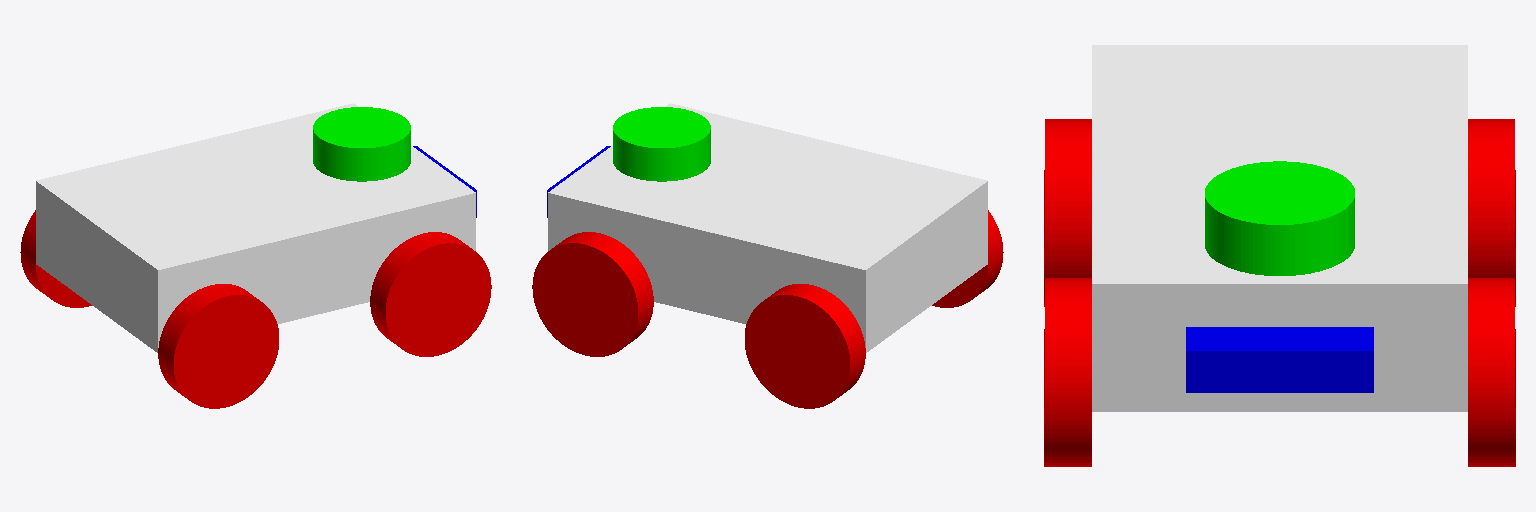
URDF robot description (wrv3):
<?xml version="1.0" ?>
<!-- =================================================================================== -->
<!-- |    This document was autogenerated by xacro from wrv3.xacro                     | -->
<!-- |    EDITING THIS FILE BY HAND IS NOT RECOMMENDED                                 | -->
<!-- =================================================================================== -->
<robot name="wrv3">
  <material name="pet">
    <color rgba="0.700 0.700 0.700 1.000"/>
  </material>
  <material name="green">
    <color rgba="0 1 0 1"/>
  </material>
  <material name="red">
    <color rgba="1 0 0 1"/>
  </material>
  <material name="blue">
    <color rgba="0 0 1 1"/>
  </material>
  <material name="white">
    <color rgba="1 1 1 1"/>
  </material>
  <link name="world"/>
  <joint name="base_joint" type="fixed">
    <origin rpy="0 0 0" xyz="0 0 0.0"/>
    <parent link="world"/>
    <child link="base_link"/>
    <axis xyz="0 0 1"/>
  </joint>
  <link name="base_link">
    <inertial>
      <origin rpy="0 0 0" xyz="0 0 0.0875"/>
      <mass value="6.935"/>
      <inertia ixx="0.026" ixy="0" ixz="0" iyy="0.055" iyz="0" izz="0.075"/>
    </inertial>
    <visual>
      <origin rpy="0 0 0" xyz="0 0 0.0875"/>
      <geometry>
        <mesh filename="package://robot_launcher_cpp/meshes/base_link.stl" scale="0.01 0.01 0.01"/>
      </geometry>
      <material name="white"/>
    </visual>
    <collision>
      <origin rpy="0 0 0" xyz="0 0 0.0875"/>
      <geometry>
        <mesh filename="package://robot_launcher_cpp/meshes/base_link.stl" scale="0.01 0.01 0.01"/>
      </geometry>
    </collision>
  </link>
  <joint name="wheell_joint" type="continuous">
    <origin rpy="1.571 0 0" xyz="-0.1 0.1125 0.05"/>
    <parent link="base_link"/>
    <child link="wheell_link"/>
    <axis xyz="0 0 1"/>
  </joint>
  <link name="wheell_link">
    <inertial>
      <origin rpy="0 0 0" xyz="0 0 0"/>
      <mass value="0.303"/>
      <inertia ixx="2.05e-04" ixy="0" ixz="0" iyy="2.05e-04" iyz="0" izz="7.58e-04"/>
    </inertial>
    <visual>
      <origin rpy="0 0 0" xyz="0 0 0"/>
      <geometry>
        <mesh filename="package://robot_launcher_cpp/meshes/wheel.stl" scale="0.01 0.01 0.01"/>
      </geometry>
      <material name="red"/>
    </visual>
    <collision>
      <origin rpy="0 0 0" xyz="0 0 0"/>
      <geometry>
        <mesh filename="package://robot_launcher_cpp/meshes/wheel.stl" scale="0.01 0.01 0.01"/>
      </geometry>
    </collision>
  </link>
  <joint name="wheelr_joint" type="continuous">
    <origin rpy="-1.571 0 0" xyz="-0.1 -0.1125 0.05"/>
    <parent link="base_link"/>
    <child link="wheelr_link"/>
    <axis xyz="0 0 1"/>
  </joint>
  <link name="wheelr_link">
    <inertial>
      <origin rpy="0 0 0" xyz="0 0 0"/>
      <mass value="0.303"/>
      <inertia ixx="2.05e-04" ixy="0" ixz="0" iyy="2.05e-04" iyz="0" izz="7.58e-04"/>
    </inertial>
    <visual>
      <origin rpy="0 0 0" xyz="0 0 0"/>
      <geometry>
        <mesh filename="package://robot_launcher_cpp/meshes/wheel.stl" scale="0.01 0.01 0.01"/>
      </geometry>
      <material name="red"/>
    </visual>
    <collision>
      <origin rpy="0 0 0" xyz="0 0 0"/>
      <geometry>
        <mesh filename="package://robot_launcher_cpp/meshes/wheel.stl" scale="0.01 0.01 0.01"/>
      </geometry>
    </collision>
  </link>
  <joint name="wheeldl_joint" type="continuous">
    <origin rpy="1.571 0 0" xyz="0.1 0.1125 0.05"/>
    <parent link="base_link"/>
    <child link="wheeldl_link"/>
    <axis xyz="0 0 1"/>
  </joint>
  <link name="wheeldl_link">
    <inertial>
      <origin rpy="0 0 0" xyz="0 0 0"/>
      <mass value="0.303"/>
      <inertia ixx="2.05e-04" ixy="0" ixz="0" iyy="2.05e-04" iyz="0" izz="7.58e-04"/>
    </inertial>
    <visual>
      <origin rpy="0 0 0" xyz="0 0 0"/>
      <geometry>
        <mesh filename="package://robot_launcher_cpp/meshes/wheel.stl" scale="0.01 0.01 0.01"/>
      </geometry>
      <material name="red"/>
    </visual>
    <collision>
      <origin rpy="0 0 0" xyz="0 0 0"/>
      <geometry>
        <mesh filename="package://robot_launcher_cpp/meshes/wheel.stl" scale="0.01 0.01 0.01"/>
      </geometry>
    </collision>
  </link>
  <joint name="wheeldr_joint" type="continuous">
    <origin rpy="-1.571 0 0" xyz="0.1 -0.1125 0.05"/>
    <parent link="base_link"/>
    <child link="wheeldr_link"/>
    <axis xyz="0 0 1"/>
  </joint>
  <link name="wheeldr_link">
    <inertial>
      <origin rpy="0 0 0" xyz="0 0 0"/>
      <mass value="0.303"/>
      <inertia ixx="2.05e-04" ixy="0" ixz="0" iyy="2.05e-04" iyz="0" izz="7.58e-04"/>
    </inertial>
    <visual>
      <origin rpy="0 0 0" xyz="0 0 0"/>
      <geometry>
        <mesh filename="package://robot_launcher_cpp/meshes/wheel.stl" scale="0.01 0.01 0.01"/>
      </geometry>
      <material name="red"/>
    </visual>
    <collision>
      <origin rpy="0 0 0" xyz="0 0 0"/>
      <geometry>
        <mesh filename="package://robot_launcher_cpp/meshes/wheel.stl" scale="0.01 0.01 0.01"/>
      </geometry>
    </collision>
  </link>
  <joint name="camera_joint" type="fixed">
    <origin rpy="0 0 0" xyz="0.165 0 0.0875"/>
    <parent link="base_link"/>
    <child link="camera_link"/>
  </joint>
  <link name="camera_link">
    <inertial>
      <origin rpy="0 0 0" xyz="0 0 0"/>
      <mass value="0.116"/>
      <inertia ixx="1.47e-05" ixy="0" ixz="0" iyy="1.03e-04" iyz="0" izz="1.05e-04"/>
    </inertial>
    <visual>
      <origin rpy="0 0 0" xyz="0 0 0"/>
      <geometry>
        <mesh filename="package://robot_launcher_cpp/meshes/camera.stl" scale="0.01 0.01 0.01"/>
      </geometry>
      <material name="blue"/>
    </visual>
    <collision>
      <origin rpy="0 0 0" xyz="0 0 0"/>
      <geometry>
        <mesh filename="package://robot_launcher_cpp/meshes/camera.stl" scale="0.01 0.01 0.01"/>
      </geometry>
    </collision>
  </link>
  <joint name="camera_optical_joint" type="fixed">
    <origin rpy="0 1.57 0" xyz="0.015 0 0"/>
    <parent link="camera_link"/>
    <child link="camera_color_link"/>
  </joint>
  <link name="camera_color_link"/>
  <joint name="lidar_joint" type="fixed">
    <origin rpy="0 0 0" xyz="0.1 0 0.14"/>
    <parent link="base_link"/>
    <child link="base_scan"/>
  </joint>
  <link name="base_scan">
    <inertial>
      <origin rpy="0 0 0" xyz="0 0 0"/>
      <mass value="0.232"/>
      <inertia ixx="1.1e-04" ixy="0" ixz="0" iyy="1.1e-04" iyz="0" izz="3.09e-05"/>
    </inertial>
    <visual>
      <origin rpy="0 0 0" xyz="0 0 0"/>
      <geometry>
        <mesh filename="package://robot_launcher_cpp/meshes/lidar.stl" scale="0.01 0.01 0.01"/>
      </geometry>
      <material name="green"/>
    </visual>
    <collision>
      <origin rpy="0 0 0" xyz="0 0 0"/>
      <geometry>
        <mesh filename="package://robot_launcher_cpp/meshes/lidar.stl" scale="0.01 0.01 0.01"/>
      </geometry>
    </collision>
  </link>
  <joint name="imu_joint" type="fixed">
    <origin rpy="0 0 0" xyz="0 0 0.0875"/>
    <parent link="base_link"/>
    <child link="imu_link"/>
  </joint>
  <link name="imu_link">
</link>
  <gazebo reference="base_link">
    <material>Gazebo/White</material>
  </gazebo>
  <gazebo reference="wheell_link">
    <material>Gazebo/Red</material>
  </gazebo>
  <gazebo reference="wheelr_link">
    <material>Gazebo/Red</material>
  </gazebo>
  <gazebo reference="wheeldl_link">
    <material>Gazebo/Red</material>
  </gazebo>
  <gazebo reference="wheeldr_link">
    <material>Gazebo/Red</material>
  </gazebo>
  <gazebo reference="camera_link">
    <material>Gazebo/Blue</material>
  </gazebo>
  <gazebo reference="base_scan">
    <material>Gazebo/Green</material>
  </gazebo>
  <gazebo reference="camera_color_link">
    <sensor name="color_camera" type="camera">
      <always_on>true</always_on>
      <visualize>true</visualize>
      <update_rate>30</update_rate>
      <camera name="camera">
        <horizontal_fov>1.02974</horizontal_fov>
        <image>
          <width>640</width>
          <height>480</height>
          <format>R8G8B8</format>
        </image>
        <clip>
          <near>0.02</near>
          <far>300</far>
        </clip>
        <noise>
          <type>gaussian</type>
          <mean>0.0</mean>
          <stddev>0.007</stddev>
        </noise>
      </camera>
      <plugin filename="libgazebo_ros_camera.so" name="camera_driver">
        </plugin>
    </sensor>
  </gazebo>
  <gazebo reference="base_scan">
    <sensor name="lidar" type="ray">
      <always_on>true</always_on>
      <visualize>true</visualize>
      <update_rate>30</update_rate>
      <ray>
        <scan>
          <horizontal>
            <samples>360</samples>
            <resolution>1.000000</resolution>
            <min_angle>0.000000</min_angle>
            <max_angle>6.280000</max_angle>
          </horizontal>
        </scan>
        <range>
          <min>0.120000</min>
          <max>3.5</max>
          <resolution>0.015000</resolution>
        </range>
        <noise>
          <type>gaussian</type>
          <mean>0.0</mean>
          <stddev>0.01</stddev>
        </noise>
      </ray>
      <plugin filename="libgazebo_ros_ray_sensor.so" name="scan">
        <ros>
          <remapping>~/out:=scan</remapping>
        </ros>
        <output_type>sensor_msgs/LaserScan</output_type>
        <frame_name>base_scan</frame_name>
      </plugin>
    </sensor>
  </gazebo>
  <gazebo reference="imu_link">
    <sensor name="imu_sensor" type="imu">
      <plugin filename="libgazebo_ros_imu_sensor.so" name="wrv3_imu">
        <ros>
          <!--<namespace>/wrv2</namespace>-->
          <remapping>~/out:=imu</remapping>
        </ros>
        <!--<initial_orientation_as_reference>true</initial_orientation_as_reference>-->
      </plugin>
      <always_on>true</always_on>
      <update_rate>100</update_rate>
      <visualize>true</visualize>
      <imu>
        <angular_velocity>
          <x>
            <noise type="gaussian">
              <mean>0.0</mean>
              <stddev>2e-4</stddev>
              <bias_mean>0.0000075</bias_mean>
              <bias_stddev>0.0000008</bias_stddev>
            </noise>
          </x>
          <y>
            <noise type="gaussian">
              <mean>0.0</mean>
              <stddev>2e-4</stddev>
              <bias_mean>0.0000075</bias_mean>
              <bias_stddev>0.0000008</bias_stddev>
            </noise>
          </y>
          <z>
            <noise type="gaussian">
              <mean>0.0</mean>
              <stddev>2e-4</stddev>
              <bias_mean>0.0000075</bias_mean>
              <bias_stddev>0.0000008</bias_stddev>
            </noise>
          </z>
        </angular_velocity>
        <linear_acceleration>
          <x>
            <noise type="gaussian">
              <mean>0.0</mean>
              <stddev>1.7e-2</stddev>
              <bias_mean>0.1</bias_mean>
              <bias_stddev>0.001</bias_stddev>
            </noise>
          </x>
          <y>
            <noise type="gaussian">
              <mean>0.0</mean>
              <stddev>1.7e-2</stddev>
              <bias_mean>0.1</bias_mean>
              <bias_stddev>0.001</bias_stddev>
            </noise>
          </y>
          <z>
            <noise type="gaussian">
              <mean>0.0</mean>
              <stddev>1.7e-2</stddev>
              <bias_mean>0.1</bias_mean>
              <bias_stddev>0.001</bias_stddev>
            </noise>
          </z>
        </linear_acceleration>
      </imu>
    </sensor>
  </gazebo>
  <gazebo>
    <plugin filename="libgazebo_ros_diff_drive.so" name="wrv3_diff_drive">
      <ros>
        <!--<namespace>/wrv3</namespace>-->
      </ros>
      <update_rate>30</update_rate>
      <!-- wheels -->
      <left_joint>wheell_joint</left_joint>
      <right_joint>wheelr_joint</right_joint>
      <!-- kinematics -->
      <wheel_separation>0.2</wheel_separation>
      <wheel_diameter>0.1</wheel_diameter>
      <!-- limits -->
      <max_wheel_torque>20</max_wheel_torque>
      <max_wheel_acceleration>1.0</max_wheel_acceleration>
      <command_topic>cmd_vel</command_topic>
      <!-- output -->
      <publish_odom>true</publish_odom>
      <publish_odom_tf>true</publish_odom_tf>
      <publish_wheel_tf>false</publish_wheel_tf>
      <odometry_topic>odom</odometry_topic>
      <odometry_frame>odom</odometry_frame>
      <robot_base_frame>base_footprint</robot_base_frame>
    </plugin>
  </gazebo>
  <gazebo>
    <plugin filename="libgazebo_ros_joint_state_publisher.so" name="wrv3_joint_state">
      <ros>
        <!-- <namespace>/wrv3</namespace> -->
        <remapping>~/out:=joint_states</remapping>
      </ros>
      <update_rate>30</update_rate>
      <joint_name>wheell_joint</joint_name>
      <joint_name>wheelr_joint</joint_name>
    </plugin>
  </gazebo>
</robot>

--- Facts derived from the render (not from the file) ---
Views: 3 orthographic renders of the robot side by side, from view 1: azimuth 30°, elevation 25°; view 2: azimuth 150°, elevation 25°; view 3: azimuth 270°, elevation 25°.
Model wrv3 with 10 links and 9 joints (4 continuous, 5 fixed), rooted at world, posed all joints at 0.
Visible links, largest first — view 1: base_link, wheeldr_link, wheelr_link, base_scan, wheell_link; view 2: base_link, wheeldl_link, wheell_link, base_scan, wheelr_link; view 3: base_link, base_scan, camera_link, wheeldl_link, wheeldr_link, wheell_link, wheelr_link.
Link boxes in pixels (bbox=[...]): base_link: bbox=[36, 103, 475, 352]; wheeldr_link: bbox=[370, 232, 491, 356]; wheelr_link: bbox=[158, 284, 278, 408]; base_scan: bbox=[313, 107, 410, 181]; wheell_link: bbox=[20, 210, 91, 307]; base_link: bbox=[548, 103, 987, 352]; wheeldl_link: bbox=[532, 232, 653, 356]; wheell_link: bbox=[745, 284, 865, 408]; base_scan: bbox=[613, 107, 710, 181]; wheelr_link: bbox=[932, 210, 1003, 307]; base_link: bbox=[1092, 45, 1467, 411]; base_scan: bbox=[1205, 161, 1354, 275]; camera_link: bbox=[1186, 327, 1373, 392]; wheeldl_link: bbox=[1468, 278, 1515, 466]; wheeldr_link: bbox=[1044, 278, 1091, 466]; wheell_link: bbox=[1468, 119, 1515, 306]; wheelr_link: bbox=[1044, 119, 1091, 306].
Size in the robot's own frame: 0.33 by 0.25 by 0.155 metres.
7 mesh visuals loaded from 4 distinct referenced files (4 binary STL).
